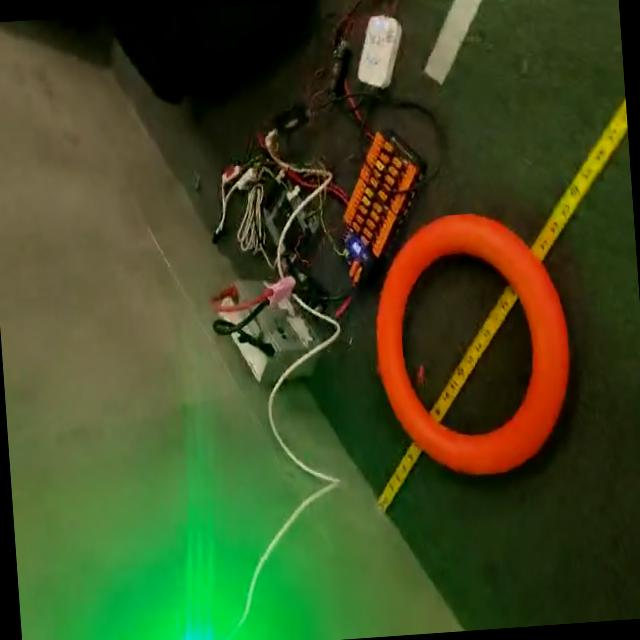note: (366, 206, 578, 484)
